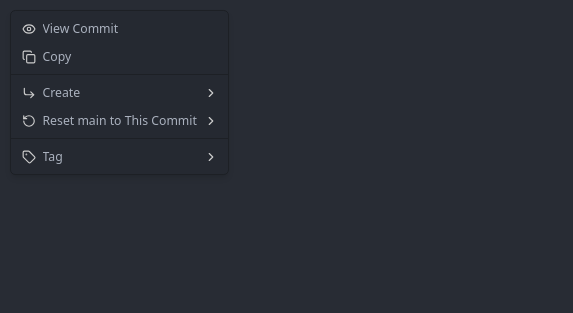
it: GitHistoryContextMenu — Tag submenu › reveals all per-tag actions when the level-3 submenu opens on hover
The image size is (573, 313).
Hover over the menu item "Tag": (120, 156) [14,142,225,170]
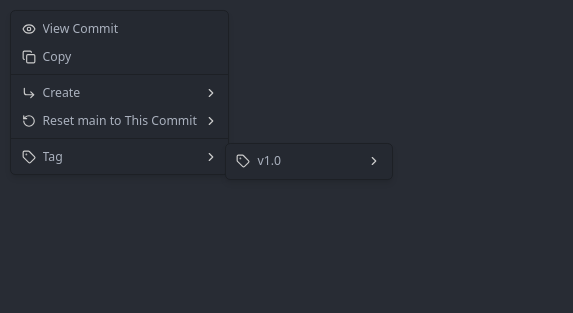
Hover over the menu item "v1.0": (309, 161) [229,147,388,175]
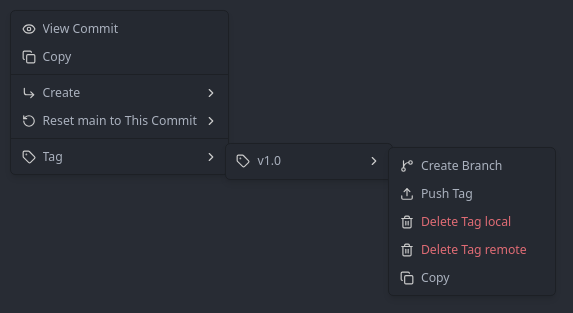
Expected: the menu item "Create Branch" is shown, [393,152,552,180]
Expected: the menu item "Push Tag" is shown, [393,180,552,208]
Expected: the menu item "Delete Tag local" is shown, [393,208,552,236]
